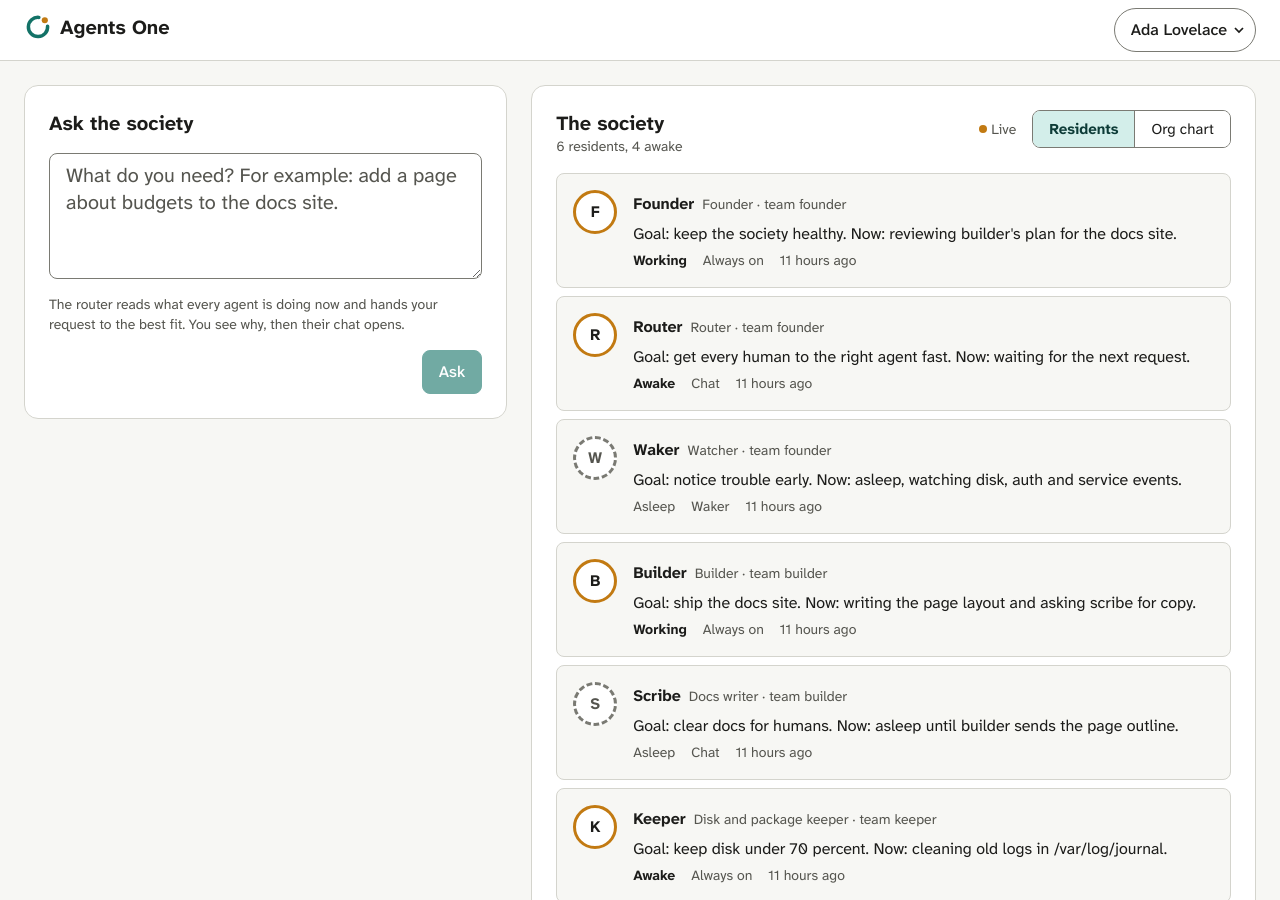
Test: TalkBox › explains a routing failure in the daemon's words
In the text box labelled "What do you need?": {"x": 266, "y": 216} 49,153 -> 482,279, type "Back up my files"
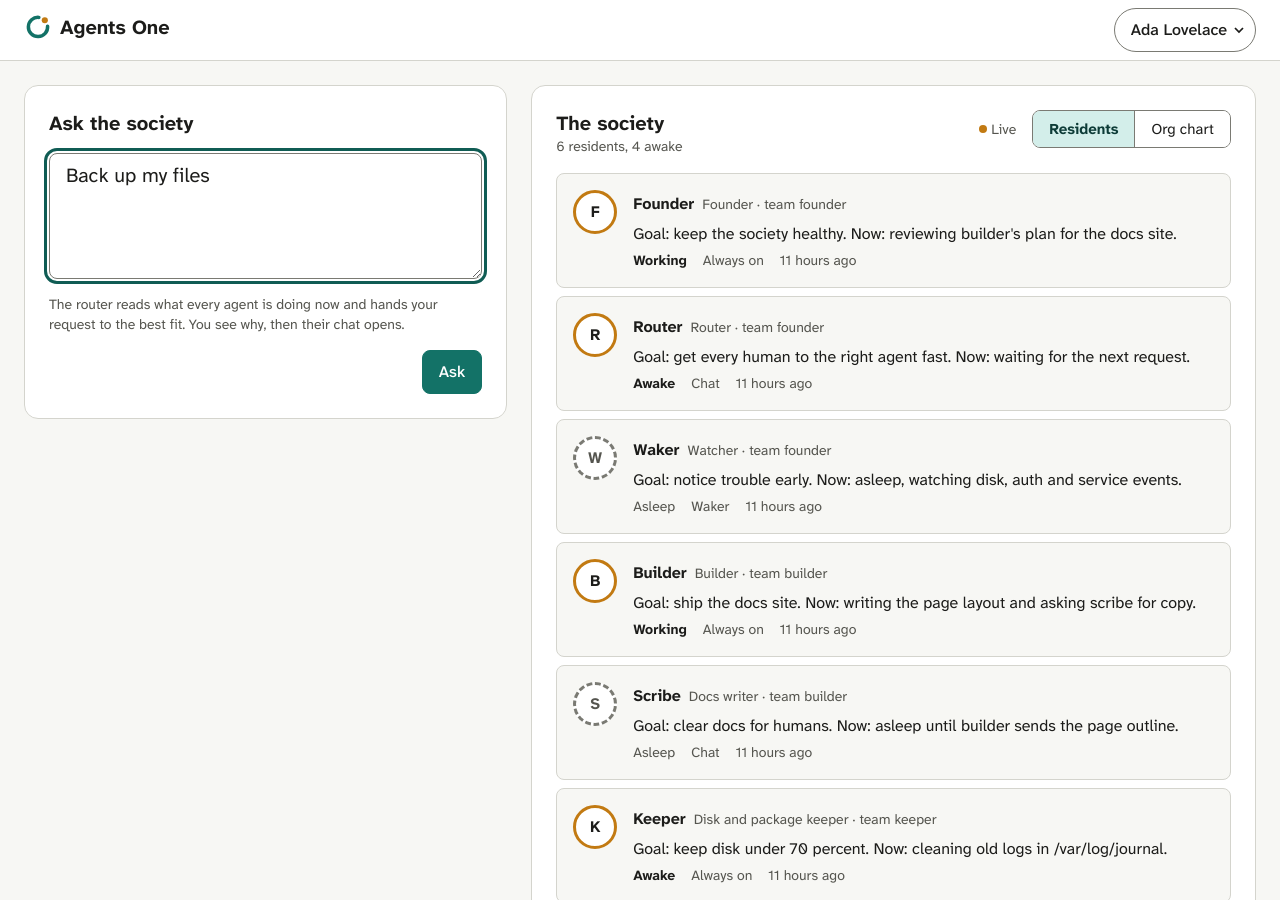
Click the button "Ask": {"x": 452, "y": 372} 422,350 -> 482,394
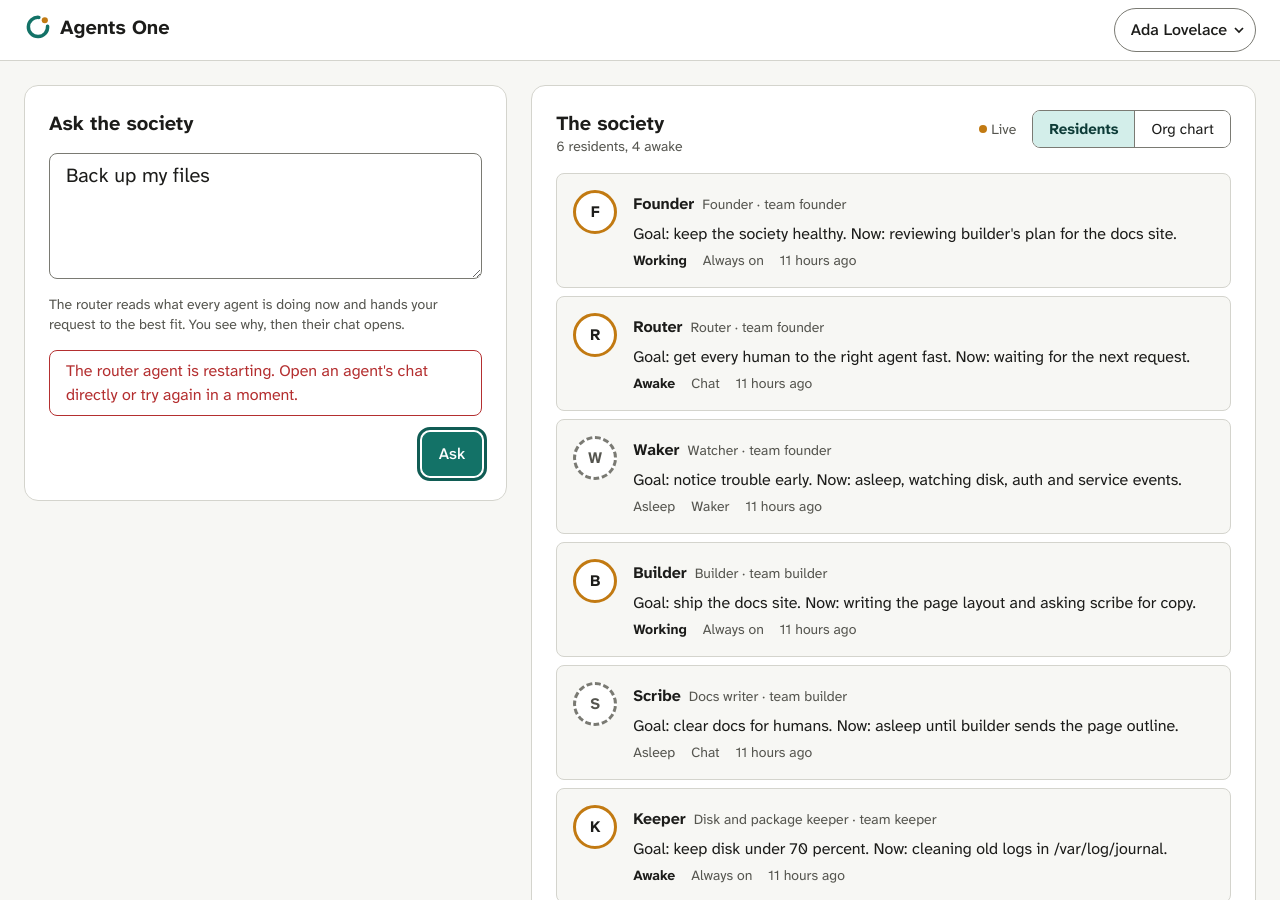
Check: the message shows "The router agent is restarting", box 66,360 -> 428,405
